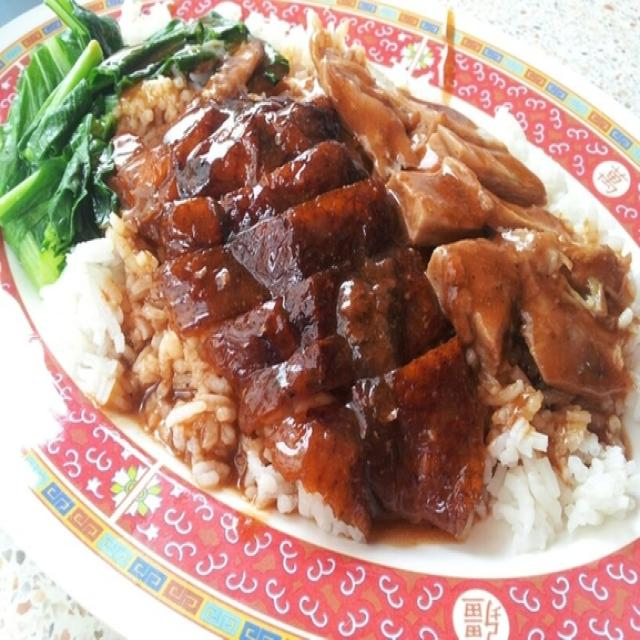米饭主食: (8, 8, 638, 602)
